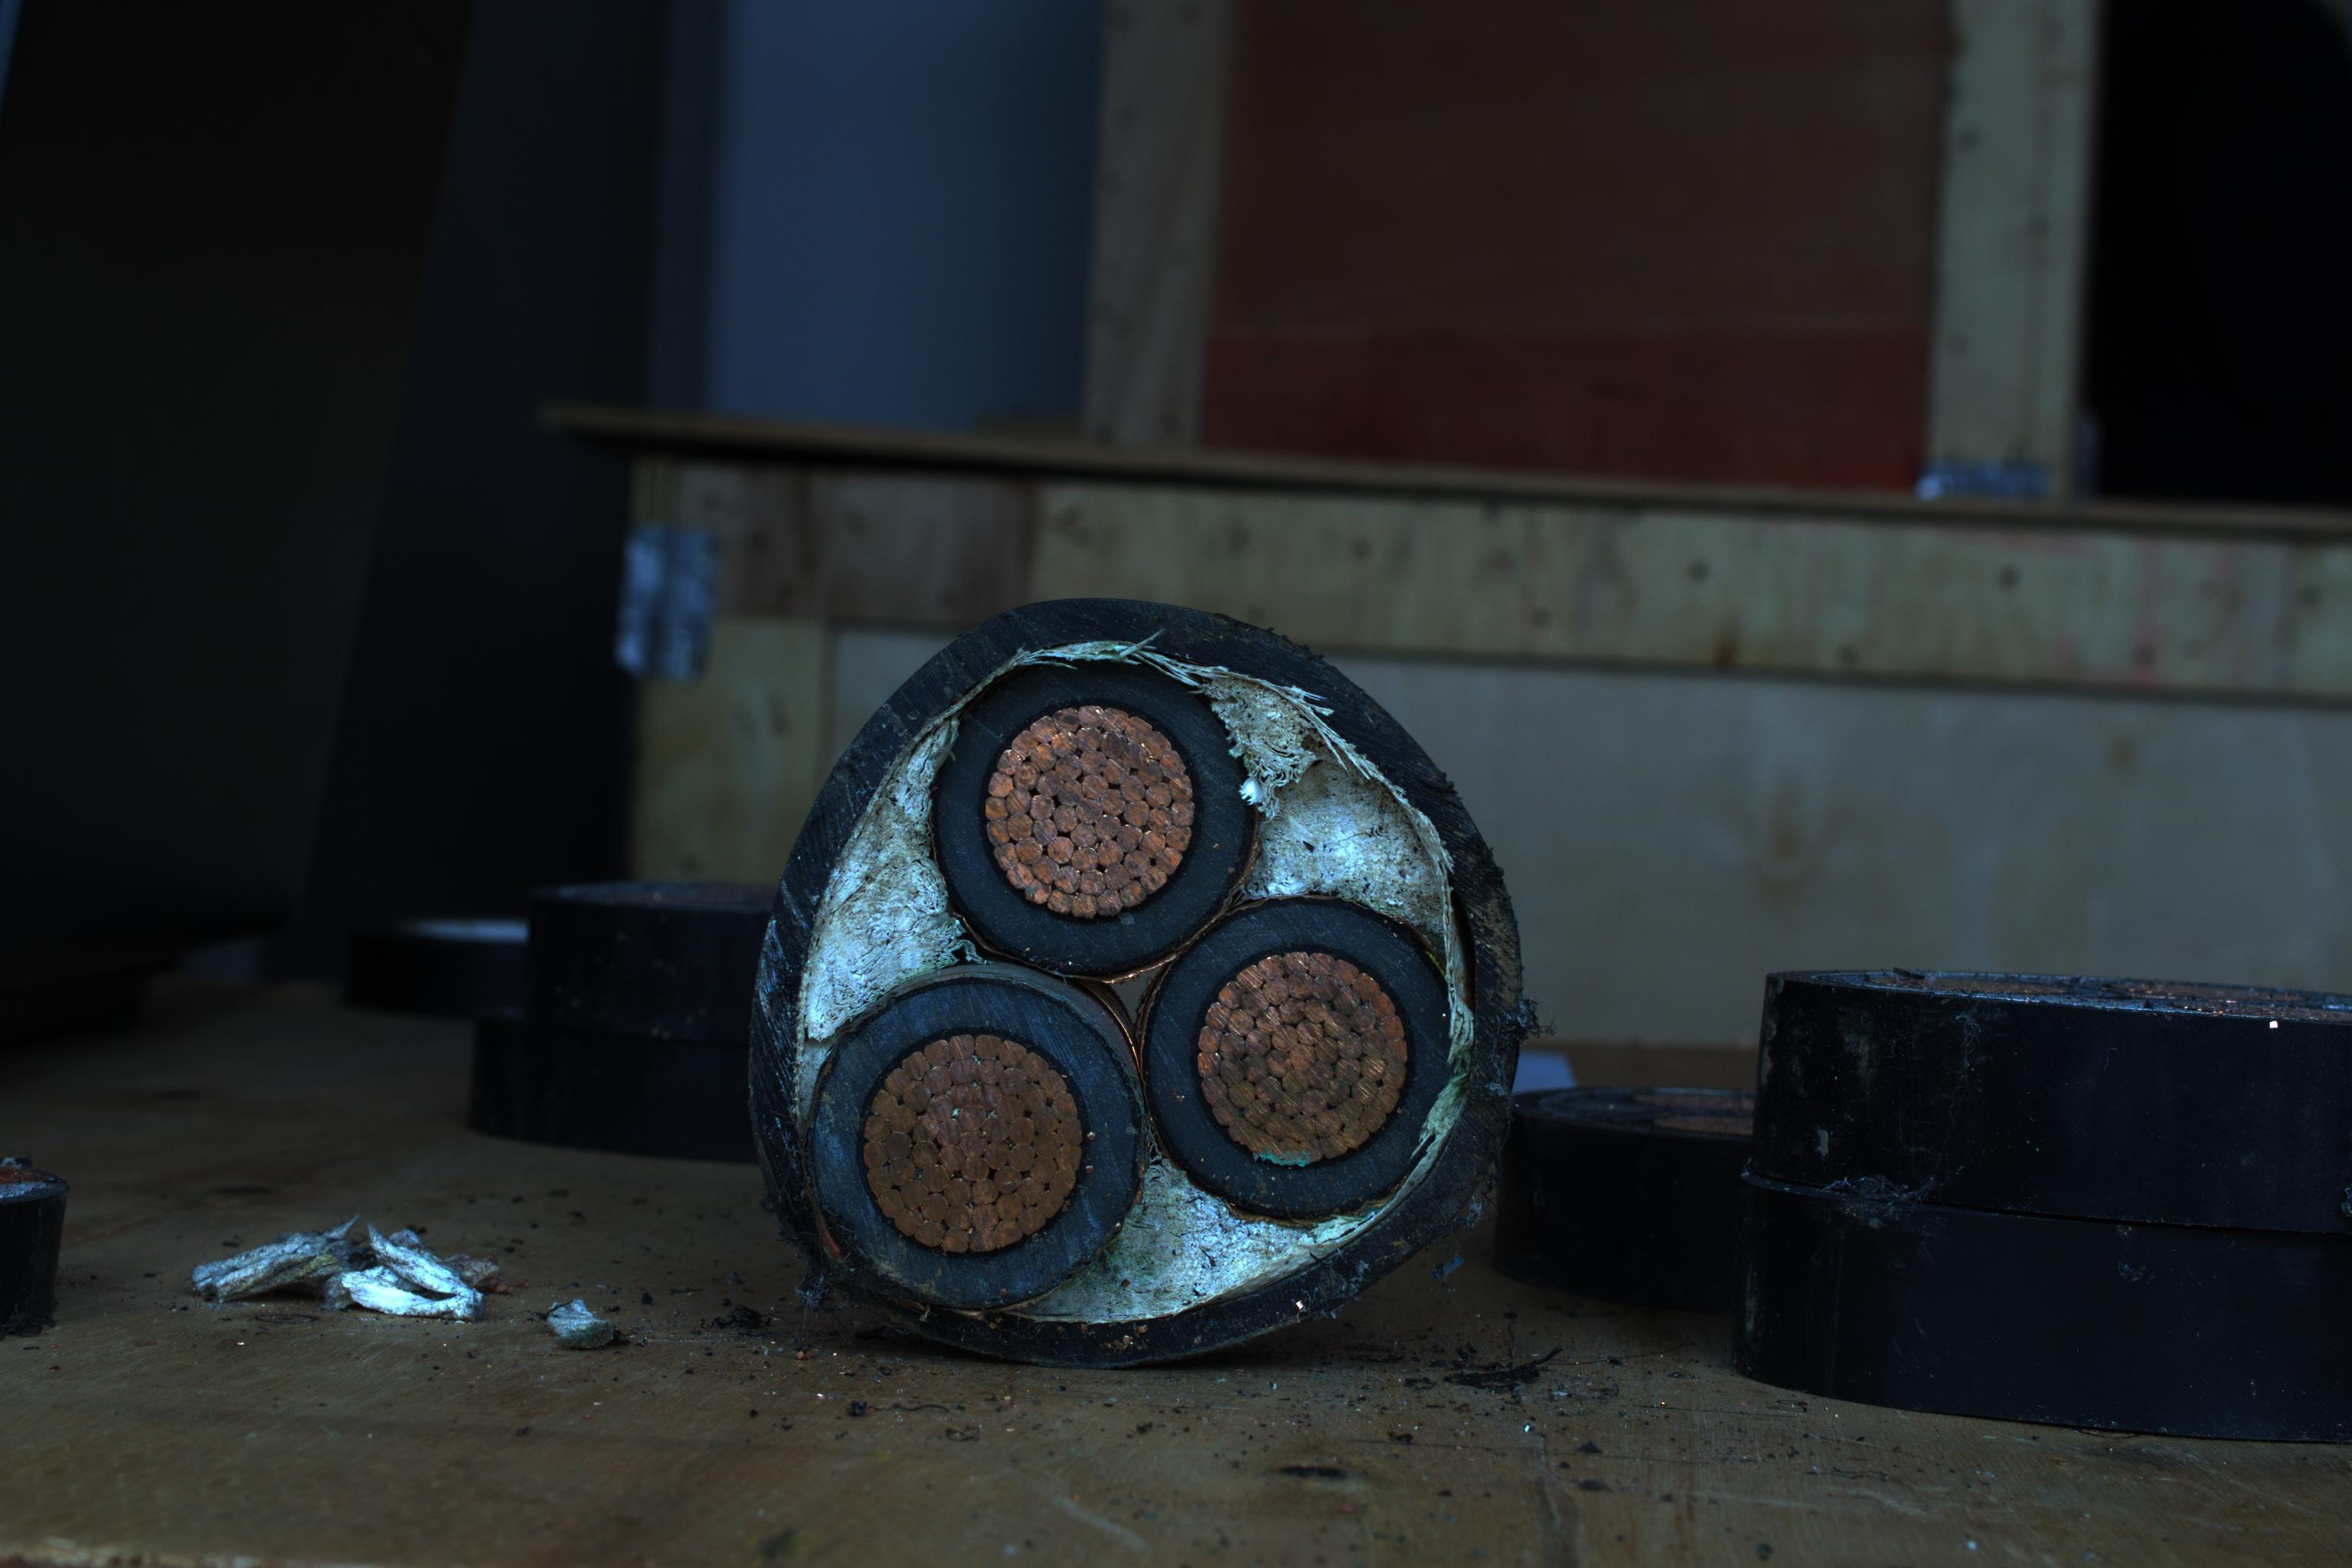ZA_YJV_8.7_10kV_3x400: (780, 602, 1524, 1347)
